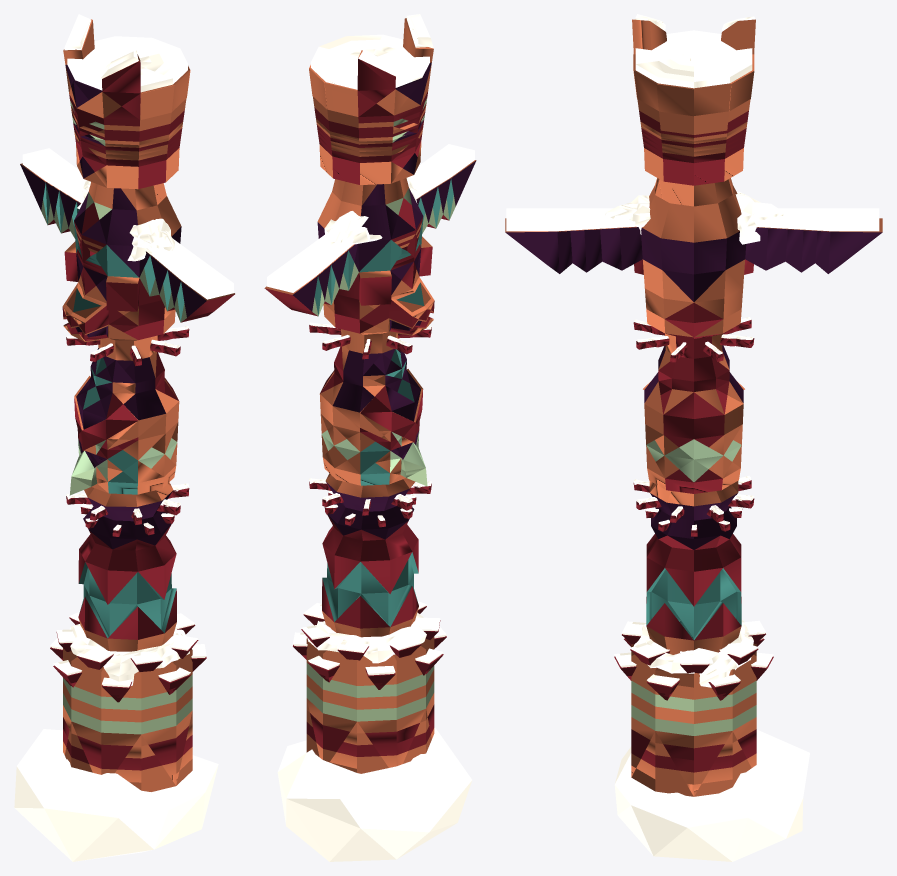
The model's file is TotemAsset.fbx.
3 renders of one model, left to right at view 1: azimuth 30°, elevation 25°; view 2: azimuth 150°, elevation 25°; view 3: azimuth 270°, elevation 25°, orthographic. The views are drawn at different scales.
Visible parts, largest first — view 1: Totem, SnowBase; view 2: Totem, SnowBase; view 3: Totem, SnowBase.
Part boxes in pixels (<box>): Totem: <box>20,14,234,791</box>; SnowBase: <box>14,729,218,861</box>; Totem: <box>264,14,476,773</box>; SnowBase: <box>277,726,472,861</box>; Totem: <box>505,14,882,796</box>; SnowBase: <box>614,729,809,861</box>.
Bounding box in the file's own units: 376 × 1601 × 672.
